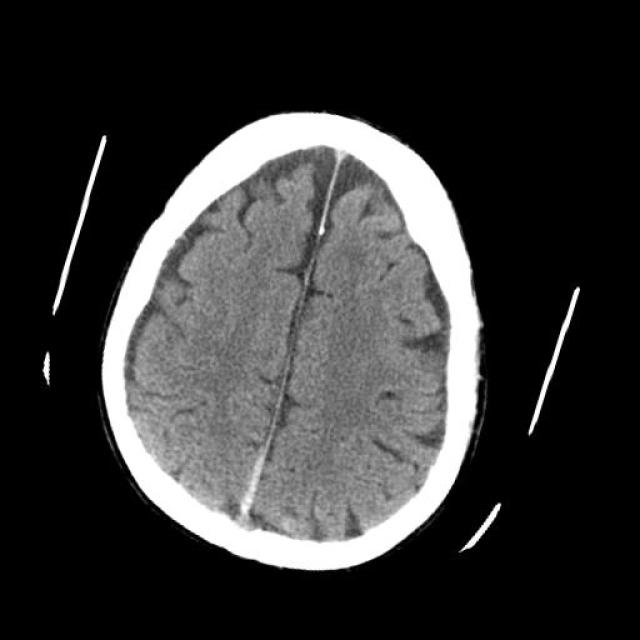Subdural: (214, 433, 308, 553)
